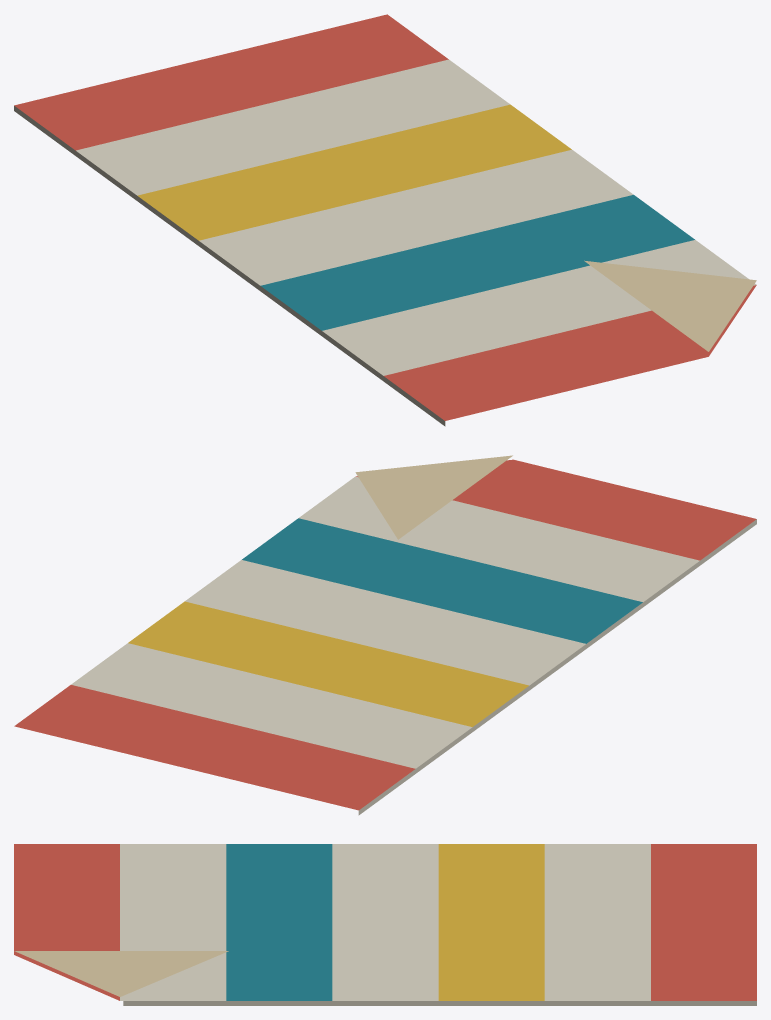
Rendered from beach_towel.glb.
The picture shows the model from 3 angles, top to bottom: view 1: azimuth 30°, elevation 25°; view 2: azimuth 150°, elevation 25°; view 3: azimuth 270°, elevation 25°; orthographic projection. The views are drawn at different scales.
Parts seen in each view (by area): view 1: Towel; view 2: Towel; view 3: Towel.
Part boxes in pixels (bbox=[...]): Towel: bbox=[14, 14, 756, 426]; Towel: bbox=[14, 455, 756, 815]; Towel: bbox=[14, 844, 756, 1005].
Size of the model in its own units: 0.85 by 0.022 by 1.7.
1 material, 1 textured.
